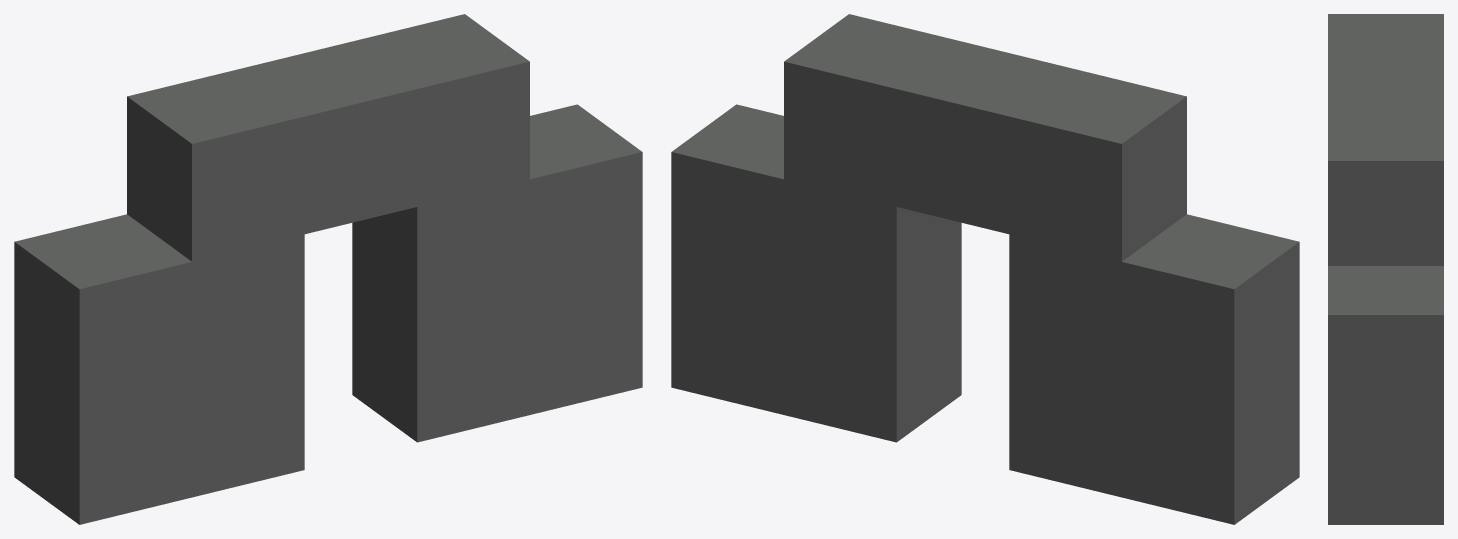
File: mastach.FBX
3 views of the same model, side by side, from view 1: azimuth 30°, elevation 25°; view 2: azimuth 150°, elevation 25°; view 3: azimuth 270°, elevation 25° (orthographic). The views are drawn at different scales.
Visible parts, largest first — view 1: mastach; view 2: mastach; view 3: mastach.
Boxes of the visible parts, left/top/right/bottom form: mastach: left=14, top=14, right=642, bottom=524; mastach: left=671, top=14, right=1299, bottom=524; mastach: left=1328, top=14, right=1443, bottom=524.
Bounding box in the file's own units: 0.5 × 0.3 × 0.1.
